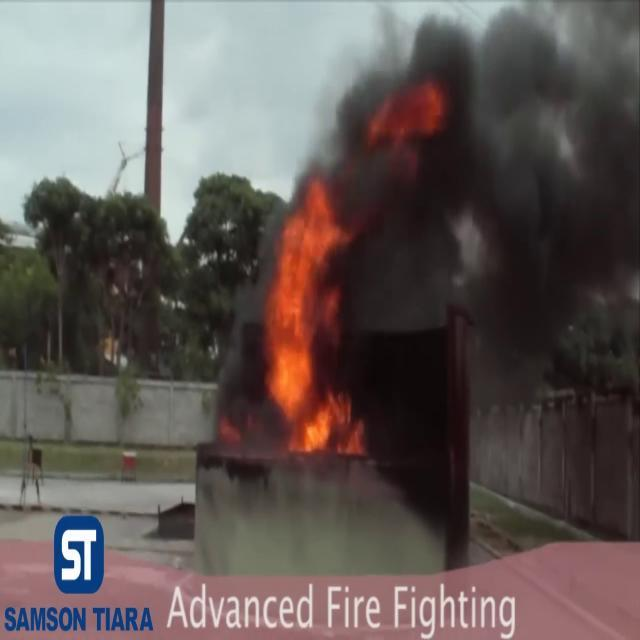Fire: (259, 180, 359, 458)
Smoke: (347, 0, 640, 340)
